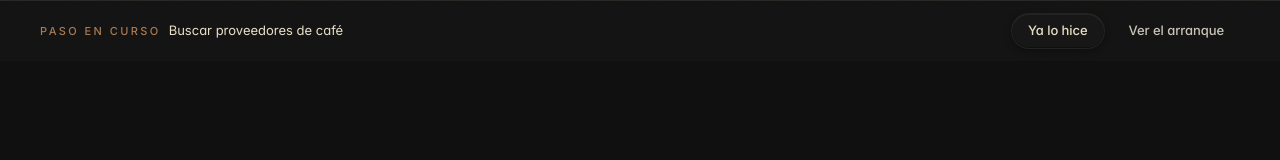
ArranqueStrip — the conversation and the step list move together › closes the step from the chat and moves to the next one
The width and height of the screenshot is (1280, 160).
Click the button with aria-label "Marcar como hecho". click: (1058, 31)
box: [1011,13,1105,49]
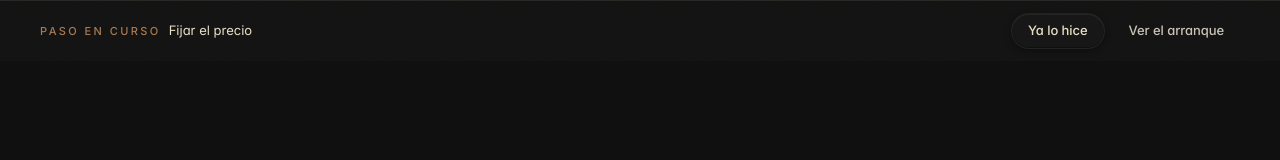
Now the text "Fijar el precio" is shown, box [169,22,252,38]
Now the text "Buscar proveedores de café" is gone
